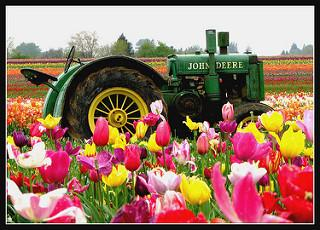tulip: (42, 150, 72, 184), (231, 132, 257, 160), (92, 116, 109, 147), (123, 145, 141, 171), (155, 120, 171, 148), (197, 132, 211, 155)
